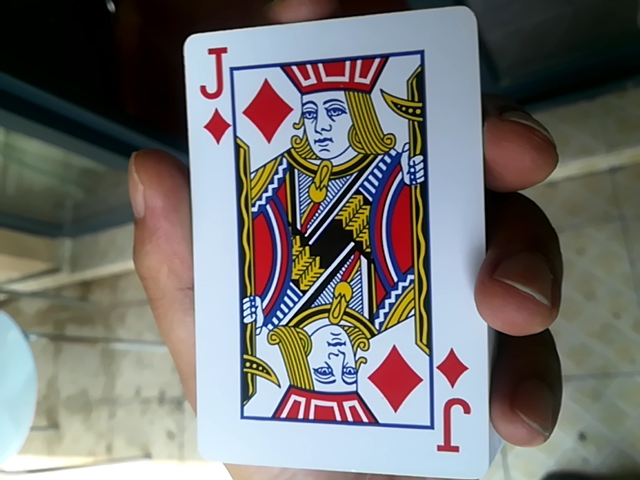fk j: (182, 19, 478, 474)
